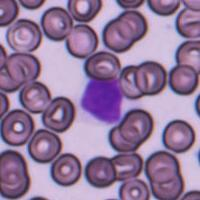L: (78, 77, 124, 126)
